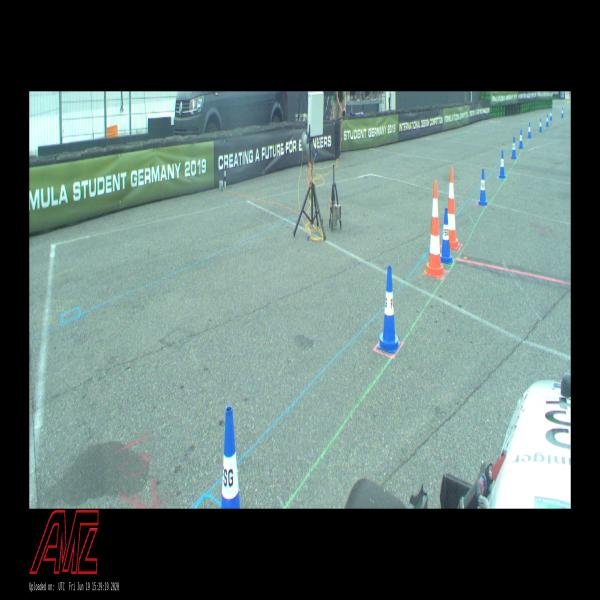blue_cone: (377, 266, 401, 354), (222, 406, 240, 508), (440, 208, 453, 264), (478, 169, 487, 206), (498, 150, 506, 178), (511, 136, 517, 159), (518, 129, 524, 149), (528, 123, 532, 138), (539, 119, 542, 132), (561, 108, 564, 118), (546, 114, 548, 127), (550, 110, 552, 121)
large_orange_cone: (424, 180, 445, 278), (448, 168, 460, 249)
